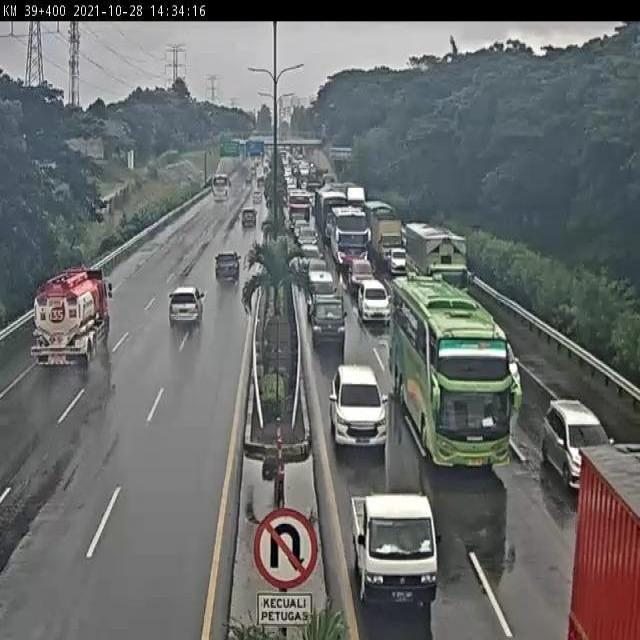bus-l-: (390, 277, 513, 472), (330, 205, 370, 263)
car: (347, 479, 433, 592), (331, 363, 392, 449), (485, 339, 523, 401), (307, 296, 347, 349), (355, 278, 393, 322), (302, 260, 335, 296), (344, 258, 374, 286), (214, 252, 242, 281), (299, 240, 324, 271)
